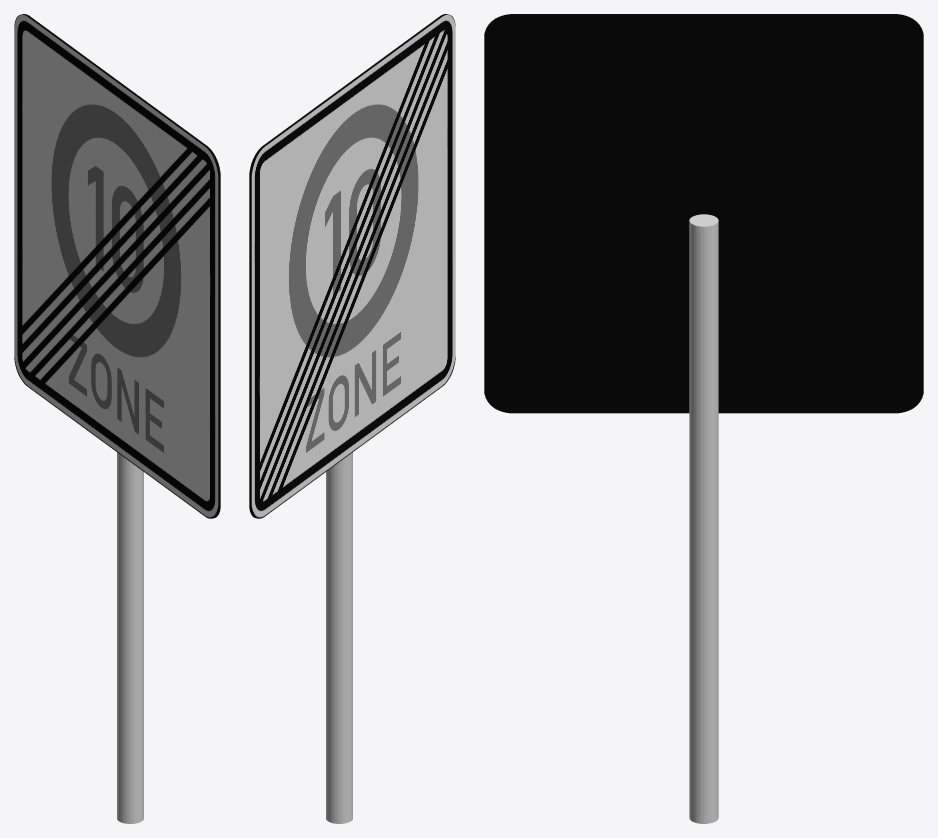
File: speed_limit_zone_10_end_sign.dae
3 renders of one model, left to right at view 1: azimuth 30°, elevation 25°; view 2: azimuth 150°, elevation 25°; view 3: azimuth 270°, elevation 25°, orthographic. The views are drawn at different scales.
Visible parts, largest first — view 1: path3678, Cylinder; view 2: path3678, Cylinder; view 3: path3678, Cylinder.
Boxes of the visible parts, box(x1,y1,x2,y2) form: path3678: box(14, 14, 220, 518); Cylinder: box(117, 452, 143, 823); path3678: box(249, 14, 455, 518); Cylinder: box(326, 452, 352, 823); path3678: box(484, 14, 923, 413); Cylinder: box(689, 214, 718, 823).
Bounding box in the file's own units: 0.011 × 0.15 × 0.3.
3 materials, 2 textured.
